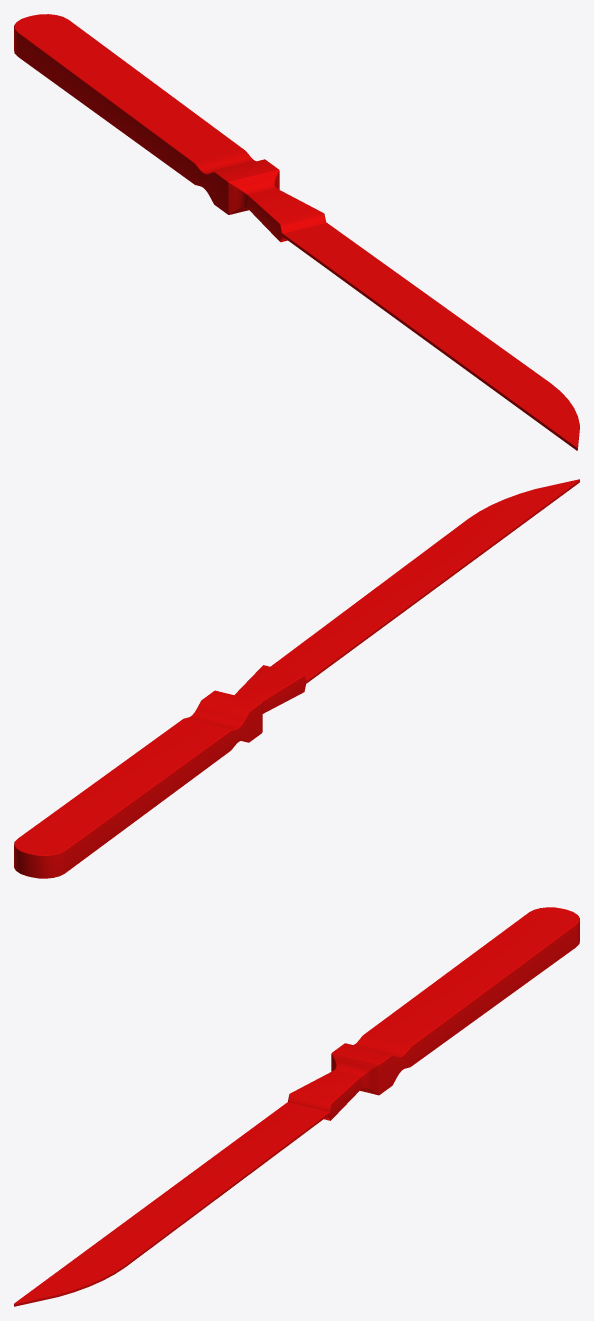
Rendered from Medical_instrument_5.fbx.
The picture shows the model from 3 angles, top to bottom: view 1: azimuth 30°, elevation 25°; view 2: azimuth 150°, elevation 25°; view 3: azimuth 330°, elevation 25°; orthographic projection. The views are drawn at different scales.
Parts seen in each view (by area): view 1: L35:pCube279; view 2: L35:pCube279; view 3: L35:pCube279.
Boxes of the visible parts, box(x1,y1,x2,y2) form: L35:pCube279: box(14, 14, 579, 450); L35:pCube279: box(14, 479, 579, 878); L35:pCube279: box(14, 907, 579, 1306).
Bounding box in the file's own units: 1.44 × 0.8907 × 27.37.
